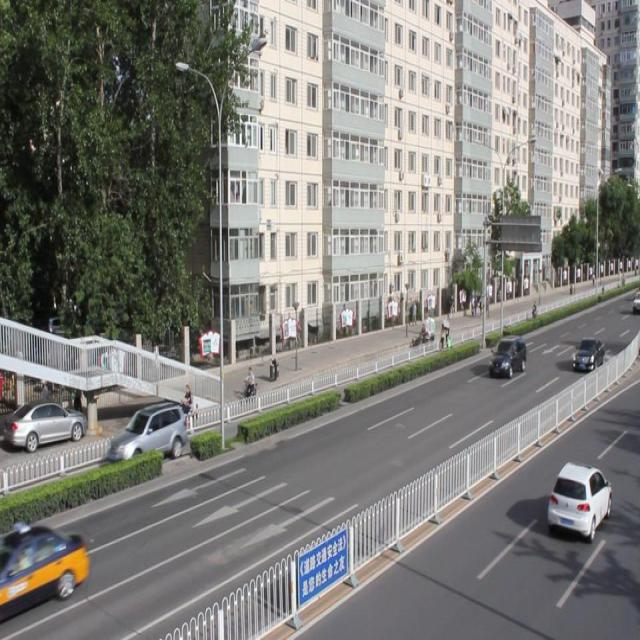car: (0, 518, 89, 614), (110, 395, 187, 469), (546, 459, 611, 539), (488, 333, 525, 378), (572, 335, 603, 370)
